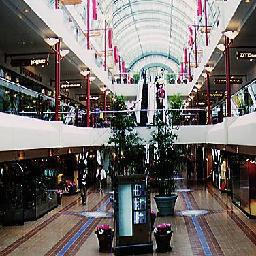Matera: (153, 121, 182, 216), (95, 223, 116, 254), (158, 225, 174, 249)
